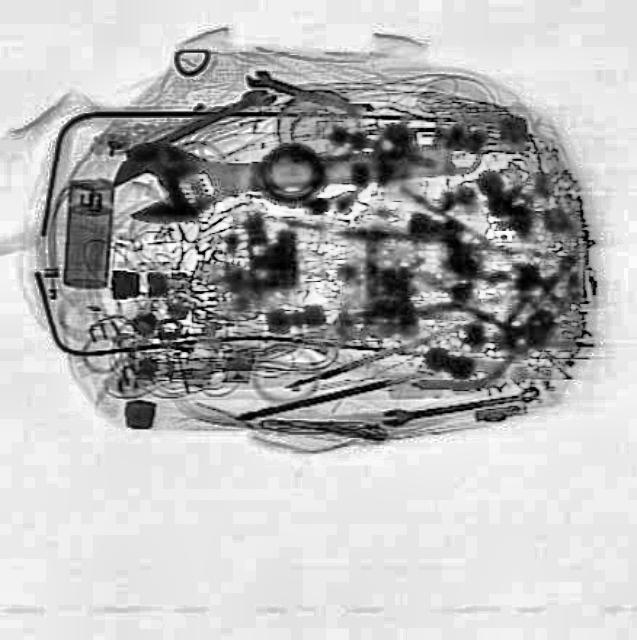Wrench: (108, 110, 484, 228), (152, 81, 274, 147), (380, 382, 540, 426), (242, 64, 366, 118)
